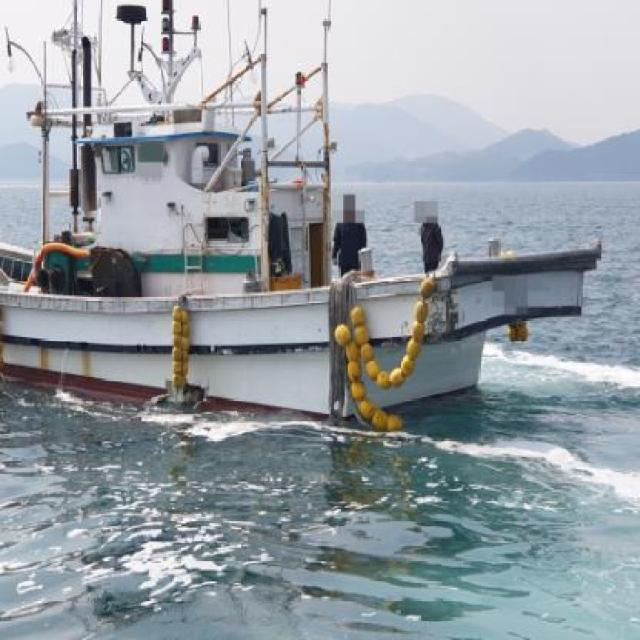fish-b: (1, 1, 612, 455)
